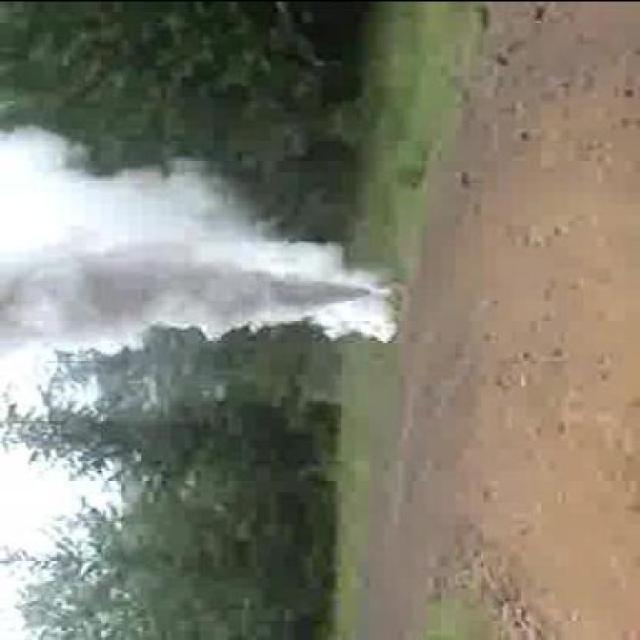Smoke: (0, 123, 392, 346)
